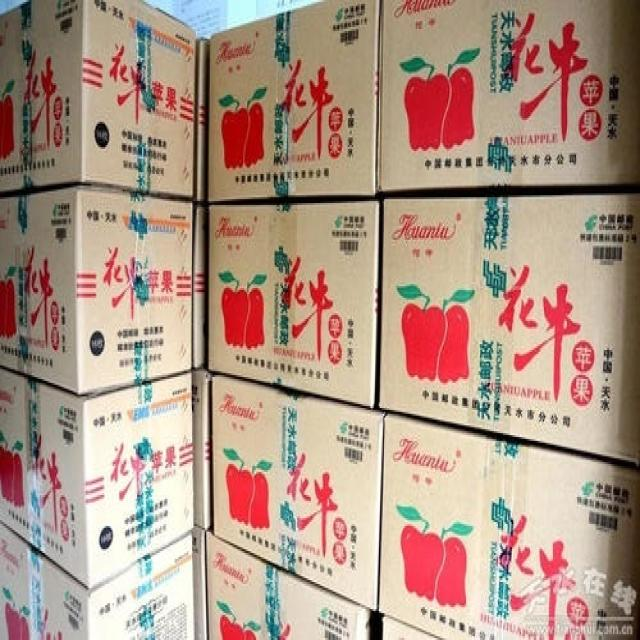box: (377, 191, 639, 466), (379, 407, 638, 636), (378, 2, 639, 193), (0, 367, 196, 589), (212, 373, 387, 613), (0, 183, 195, 397), (0, 0, 196, 201), (205, 199, 381, 407), (209, 2, 383, 201), (1, 516, 198, 638), (206, 531, 372, 638), (195, 365, 214, 531), (193, 38, 209, 200), (194, 200, 208, 365), (381, 613, 440, 638), (195, 526, 207, 638)
